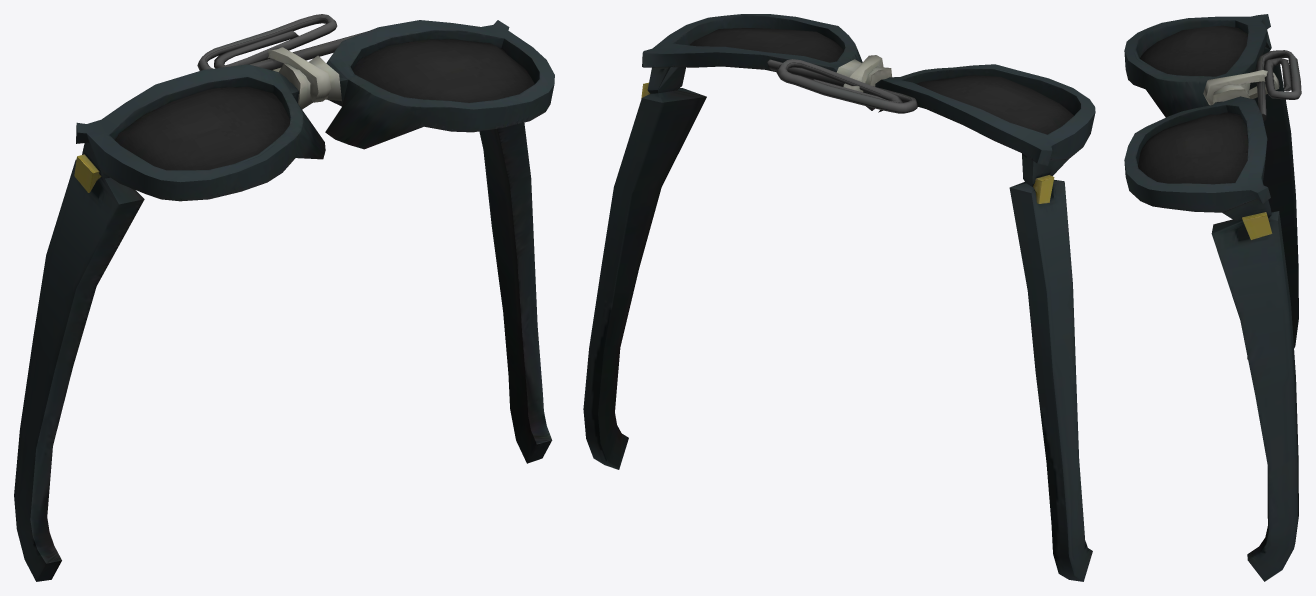
The picture shows the model from 3 angles, left to right: view 1: azimuth 30°, elevation 25°; view 2: azimuth 150°, elevation 25°; view 3: azimuth 270°, elevation 25°; orthographic projection. The views are drawn at different scales.
Parts seen in each view (by area): view 1: body0_model0_lod0_mesh0; view 2: body0_model0_lod0_mesh0; view 3: body0_model0_lod0_mesh0.
Boxes of the visible parts, left/top/right/bottom form: body0_model0_lod0_mesh0: left=14, top=14, right=554, bottom=581; body0_model0_lod0_mesh0: left=583, top=14, right=1095, bottom=581; body0_model0_lod0_mesh0: left=1124, top=14, right=1301, bottom=581.
Size of the model in its own units: 7.47 by 6.75 by 2.65.
1 material, 1 textured.
